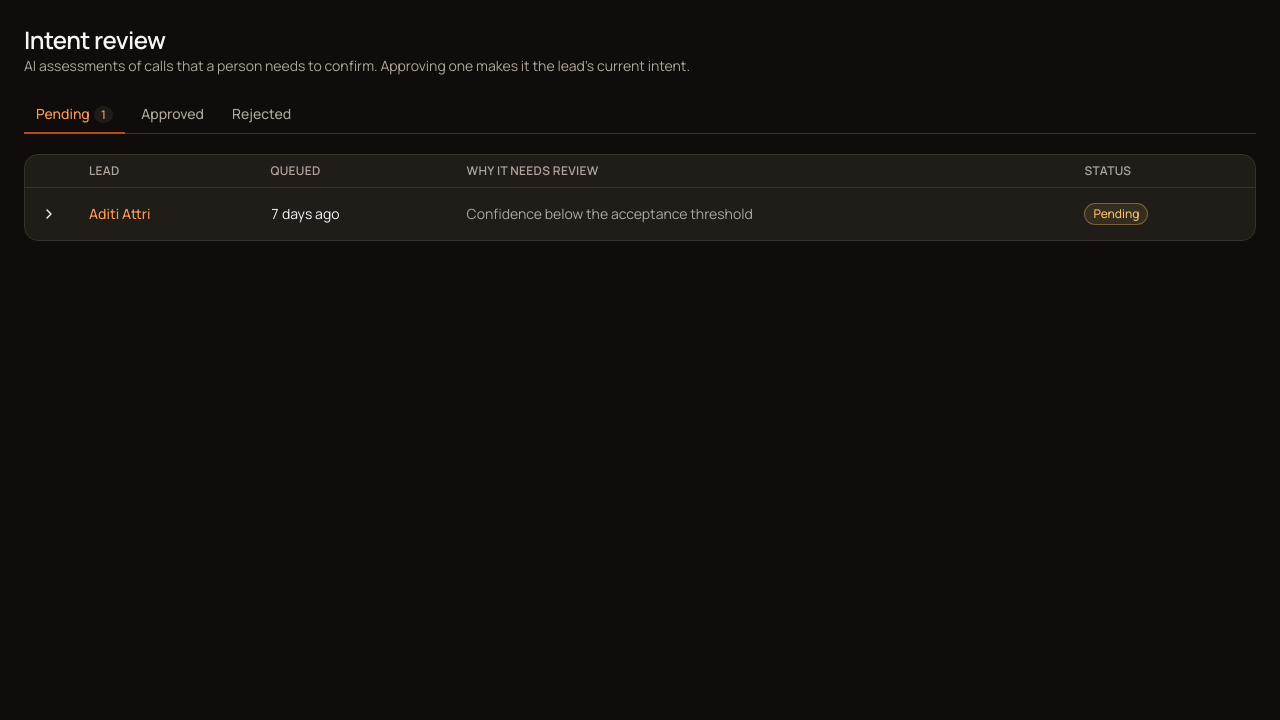
Scenario: Intent review › explains a 409 when someone else reviewed it first
Click the button named "Show details for Aditi Attri" at (49, 214), box left=33, top=198, right=65, bottom=230
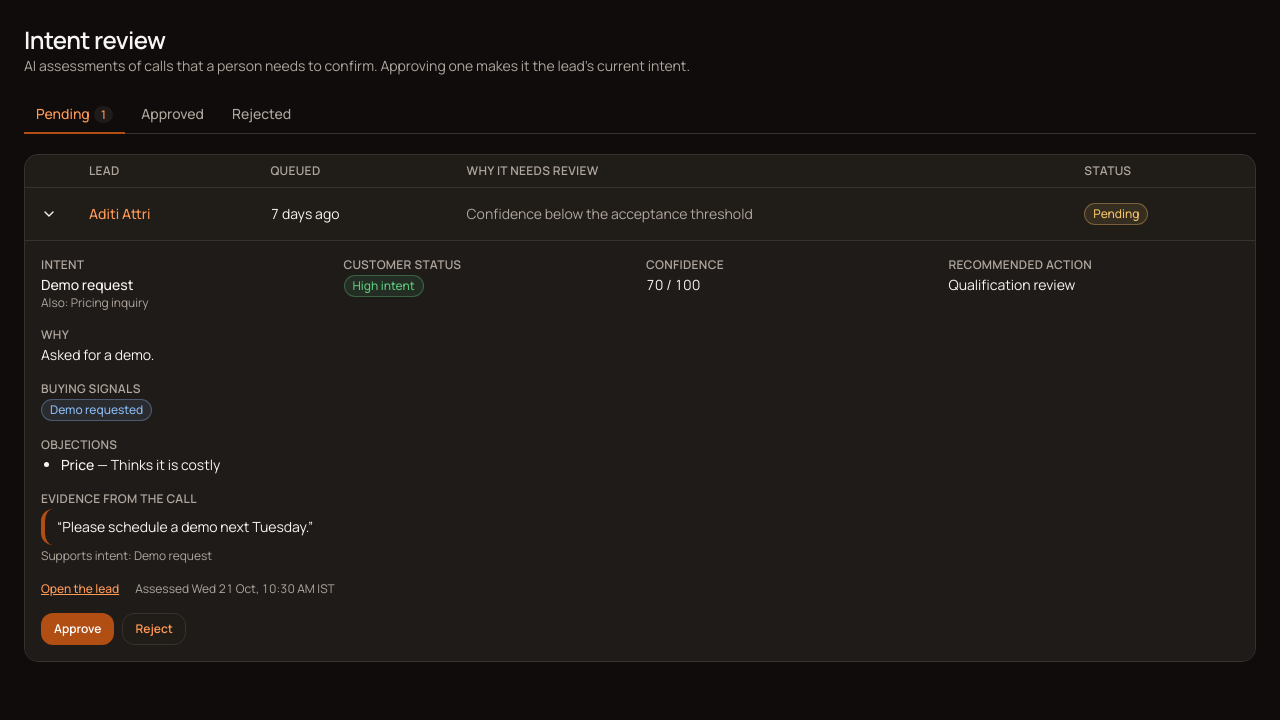
Click the button "Reject" at (154, 629), box left=122, top=613, right=186, bottom=645
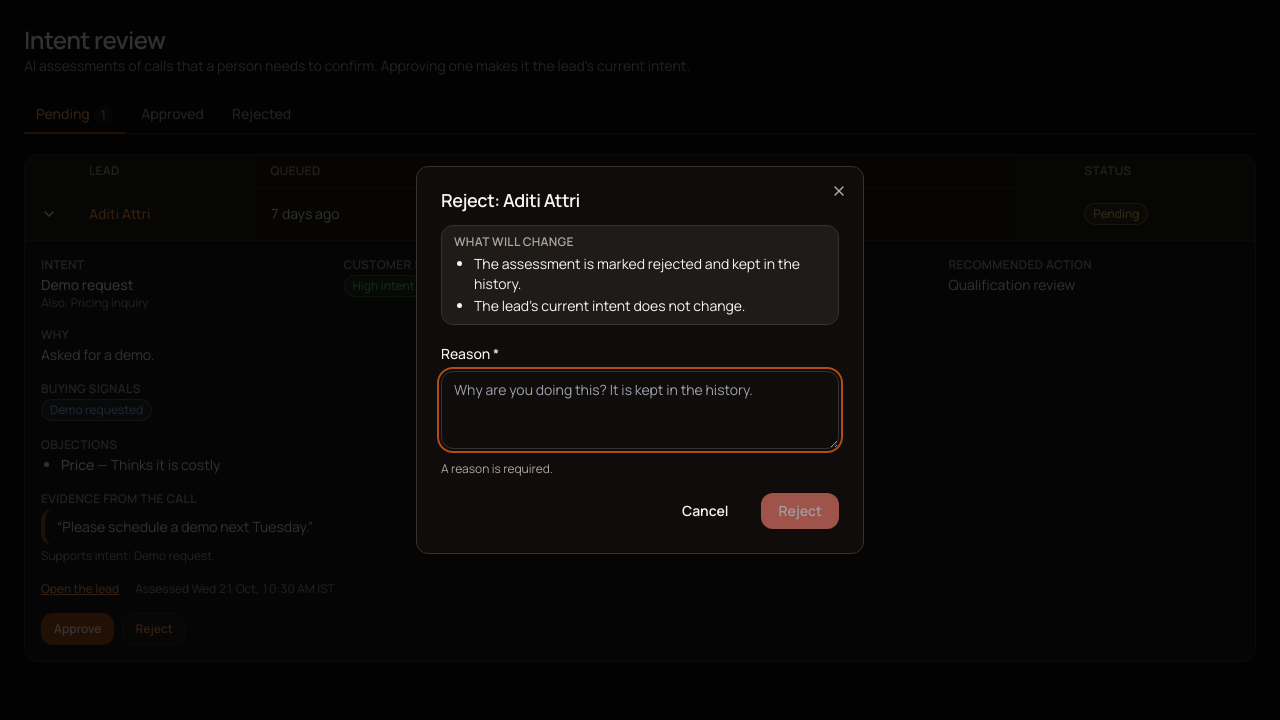
Expected: the button "Reject" is disabled, left=762, top=493, right=839, bottom=529
Type "Not what they said" into the text box at (640, 410), box left=441, top=371, right=839, bottom=449
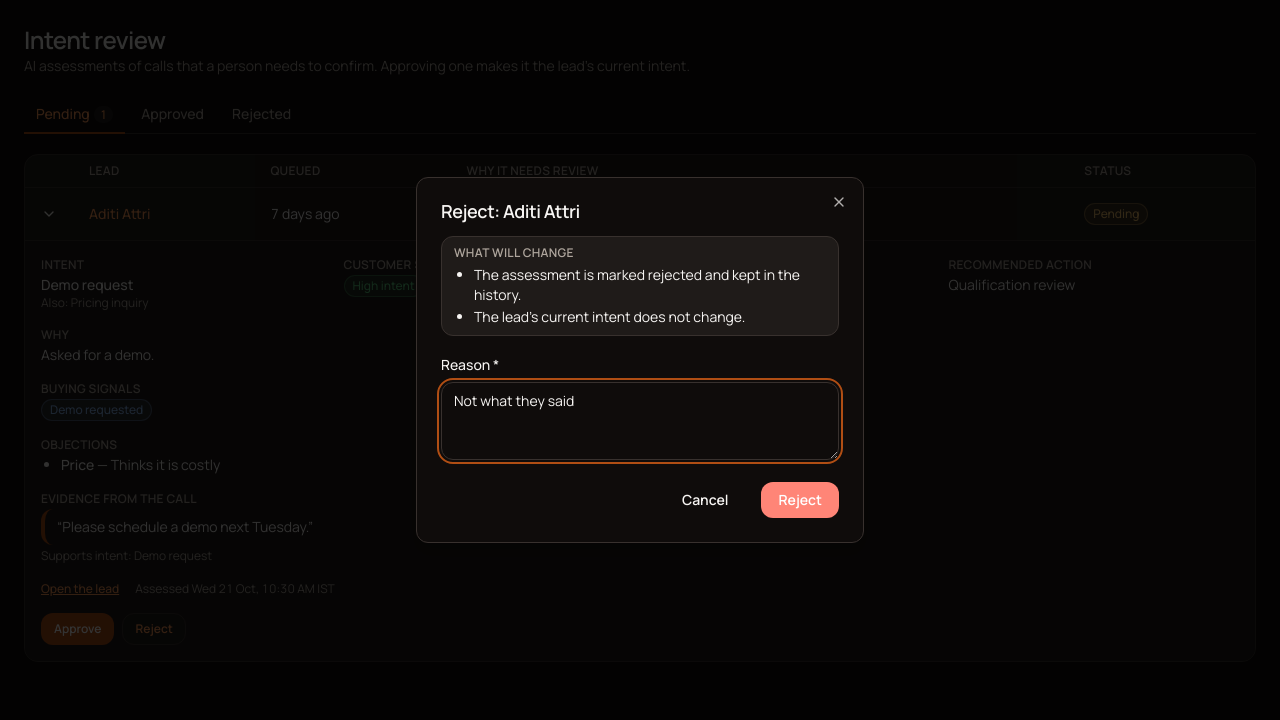
Click the button "Reject" at (800, 500), box left=762, top=482, right=839, bottom=518
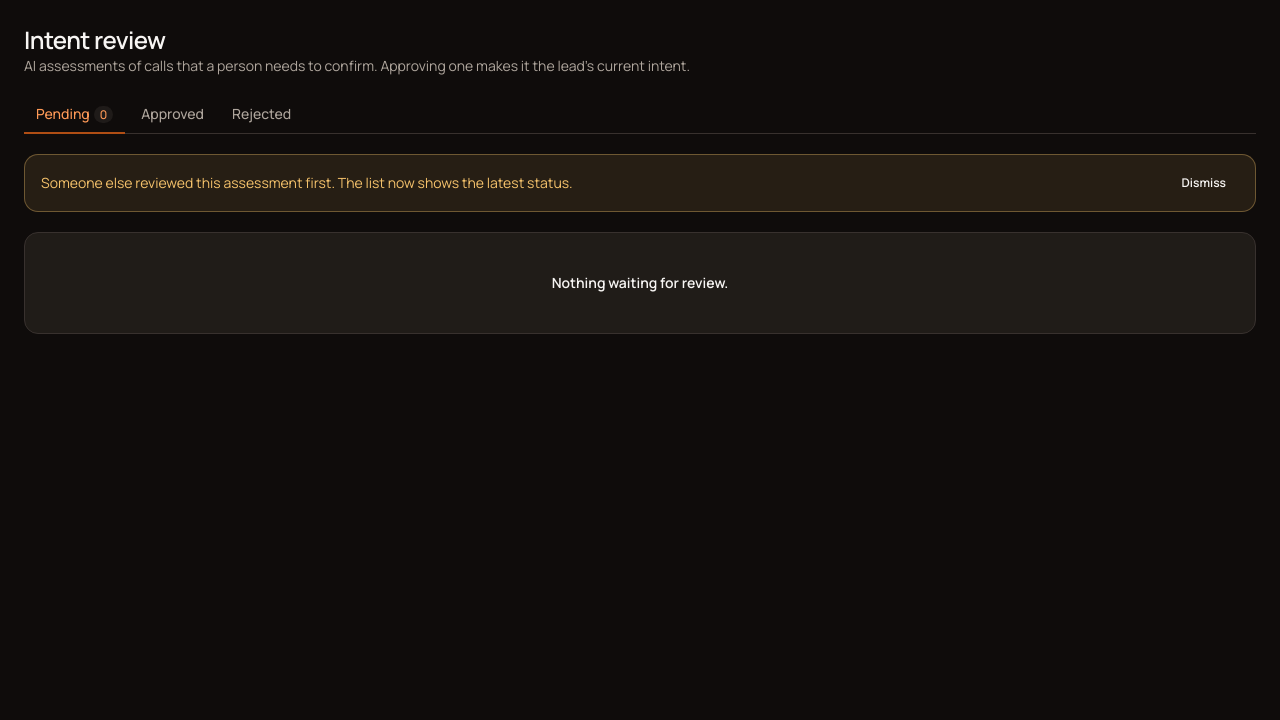
Expected: the message shows "Someone else reviewed this assessment first", left=41, top=173, right=573, bottom=192
Expected: the dialog is gone
Expected: the text "Nothing waiting for review." is shown, left=552, top=273, right=728, bottom=292
